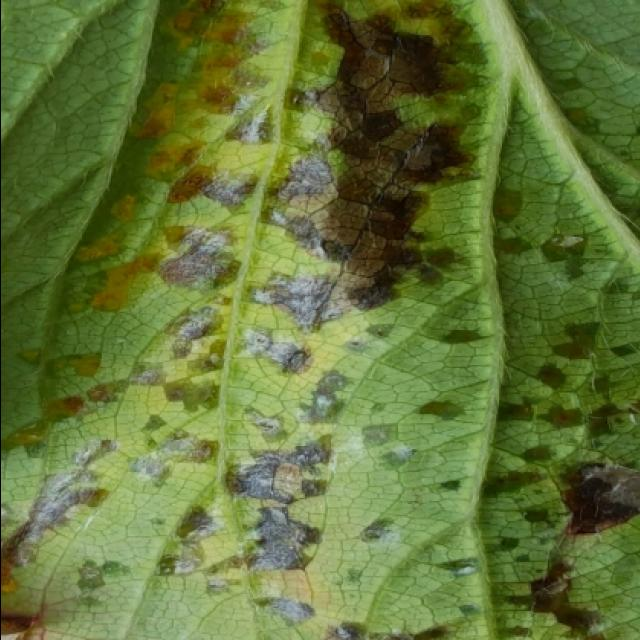Angular Leafspot: (2, 0, 640, 638)
